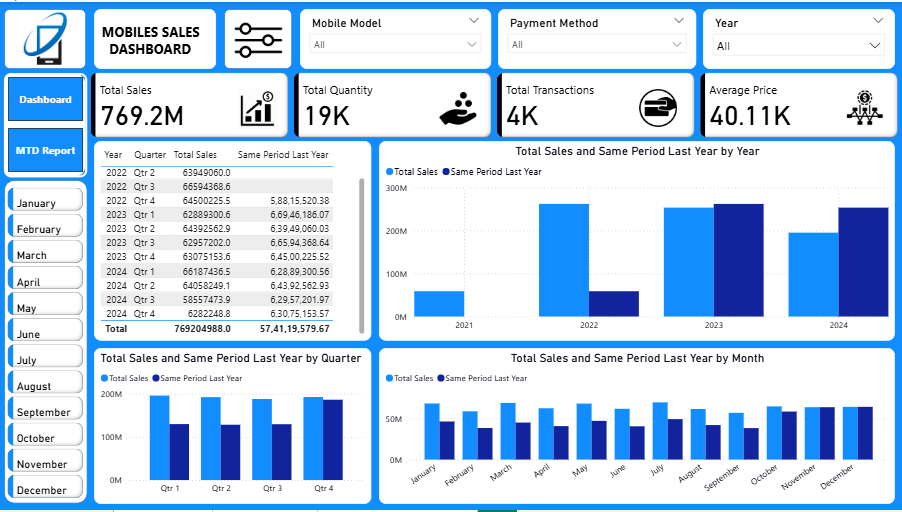

The dashboard page shown, as its layout file describes it:
{"tool":"powerbi","page":{"name":"Same Period Last Year","canvas":[1280,720],"ordinal":2},"visuals":[{"type":"shape","box":[7.1,9.9,116.2,85],"z":0},{"type":"shape","box":[5.7,100.6,117.6,147.4],"z":1000},{"type":"shape","box":[6.7,251.7,118.3,458.3],"z":2000},{"type":"advancedSlicerVisual","fields":{"Values":["Custom_calendar_from_2021_2024.Date.Variation.Date Hierarchy.Month"]},"box":[7.1,258.6,117.1,451.4],"z":3000},{"type":"cardVisual","fields":{"Data":["Mobiles_sales_data.Total Sales","Mobiles_sales_data.Total Quantity","Mobiles_sales_data.Total Transactions","Mobiles_sales_data.Average Price"]},"box":[125.4,94.4,1154.9,102.8],"z":4000},{"type":"image","box":[618,116.2,65.2,69.4],"z":5000},{"type":"image","box":[333.1,113.4,68,75.1],"z":6000},{"type":"image","box":[1196.2,100.6,62.4,97.8],"z":7000},{"type":"image","box":[897.2,116.2,73.7,68],"z":8000},{"type":"slicer","fields":{"Values":["Mobiles_sales_data.Mobile Model"]},"box":[426.6,9.9,270.7,85],"z":9000},{"type":"slicer","fields":{"Values":["Mobiles_sales_data.Payment Method"]},"box":[707.2,9.9,280.6,85],"z":10000},{"type":"slicer","fields":{"Values":["Custom_calendar_from_2021_2024.Date.Variation.Date Hierarchy.Year"]},"box":[997.8,9.9,272.1,85],"z":11000},{"type":"textbox","box":[134.6,9.9,172.9,85],"z":12000},{"type":"shape","box":[318.9,9.9,96.4,85],"z":13000},{"type":"image","box":[321.7,17,90.7,70.9],"z":14000},{"type":"image","box":[7.1,9.9,116.2,83.6],"z":15000},{"type":"tableEx","fields":{"Values":["Custom_calendar_from_2021_2024.Date.Variation.Date Hierarchy.Year","Custom_calendar_from_2021_2024.Date.Variation.Date Hierarchy.Quarter","Mobiles_sales_data.Total Sales","Mobiles_sales_data.Same Period Last Year"]},"box":[135.2,197.2,393,283.1],"z":16000},{"type":"clusteredColumnChart","fields":{"Category":["Custom_calendar_from_2021_2024.Date.Variation.Date Hierarchy.Year","Custom_calendar_from_2021_2024.Date.Variation.Date Hierarchy.Quarter","Custom_calendar_from_2021_2024.Date.Variation.Date Hierarchy.Month","Custom_calendar_from_2021_2024.Date.Variation.Date Hierarchy.Day"],"Y":["Mobiles_sales_data.Total Sales","Mobiles_sales_data.Same Period Last Year"]},"box":[538,197.2,731,283.1],"z":17000},{"type":"clusteredColumnChart","fields":{"Category":["Custom_calendar_from_2021_2024.Date.Variation.Date Hierarchy.Year","Custom_calendar_from_2021_2024.Date.Variation.Date Hierarchy.Quarter","Custom_calendar_from_2021_2024.Date.Variation.Date Hierarchy.Month","Custom_calendar_from_2021_2024.Date.Variation.Date Hierarchy.Day"],"Y":["Mobiles_sales_data.Total Sales","Mobiles_sales_data.Same Period Last Year"]},"box":[135.2,490.1,393,221.1],"z":18000},{"type":"clusteredColumnChart","fields":{"Category":["Custom_calendar_from_2021_2024.Date.Variation.Date Hierarchy.Year","Custom_calendar_from_2021_2024.Date.Variation.Date Hierarchy.Quarter","Custom_calendar_from_2021_2024.Date.Variation.Date Hierarchy.Month","Custom_calendar_from_2021_2024.Date.Variation.Date Hierarchy.Day"],"Y":["Mobiles_sales_data.Total Sales","Mobiles_sales_data.Same Period Last Year"]},"box":[538,490.1,731,221.1],"z":19000},{"type":"pageNavigator","box":[7,100,118.3,147.9],"z":20000}]}

Visuals, with their boxes in screenshot pixels (x1, y1, x2, y2), scaled from the page's 1280x720 canvas onto the 902x512 screenshot:
shape: (5, 7, 87, 67)
shape: (4, 72, 87, 176)
shape: (5, 179, 88, 505)
advancedSlicerVisual - Custom_calendar_from_2021_2024.Date.Variation.Date Hierarchy.Month: (5, 184, 88, 505)
cardVisual - Mobiles_sales_data.Total Sales x Mobiles_sales_data.Total Quantity: (88, 67, 901, 140)
image: (435, 83, 481, 132)
image: (235, 81, 283, 134)
image: (843, 72, 887, 141)
image: (632, 83, 684, 131)
slicer - Mobiles_sales_data.Mobile Model: (301, 7, 491, 67)
slicer - Mobiles_sales_data.Payment Method: (498, 7, 696, 67)
slicer - Custom_calendar_from_2021_2024.Date.Variation.Date Hierarchy.Year: (703, 7, 895, 67)
textbox: (95, 7, 217, 67)
shape: (225, 7, 293, 67)
image: (227, 12, 291, 63)
image: (5, 7, 87, 66)
tableEx - Custom_calendar_from_2021_2024.Date.Variation.Date Hierarchy.Year x Custom_calendar_from_2021_2024.Date.Variation.Date Hierarchy.Quarter: (95, 140, 372, 342)
clusteredColumnChart - Custom_calendar_from_2021_2024.Date.Variation.Date Hierarchy.Year x Custom_calendar_from_2021_2024.Date.Variation.Date Hierarchy.Quarter: (379, 140, 894, 342)
clusteredColumnChart - Custom_calendar_from_2021_2024.Date.Variation.Date Hierarchy.Year x Custom_calendar_from_2021_2024.Date.Variation.Date Hierarchy.Quarter: (95, 349, 372, 506)
clusteredColumnChart - Custom_calendar_from_2021_2024.Date.Variation.Date Hierarchy.Year x Custom_calendar_from_2021_2024.Date.Variation.Date Hierarchy.Quarter: (379, 349, 894, 506)
pageNavigator: (5, 71, 88, 176)
